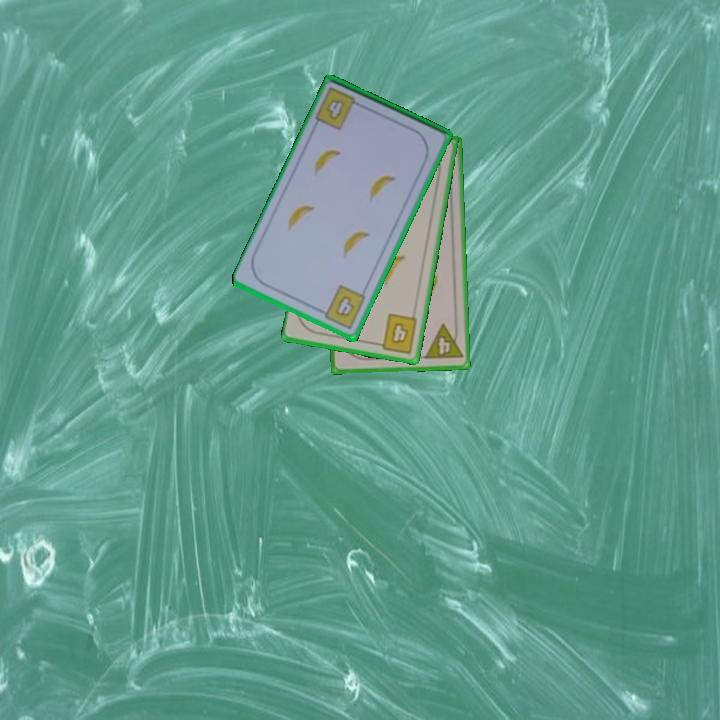4b: (316, 282, 369, 333), (372, 310, 421, 356), (322, 96, 348, 123)
4p: (421, 320, 465, 362)
